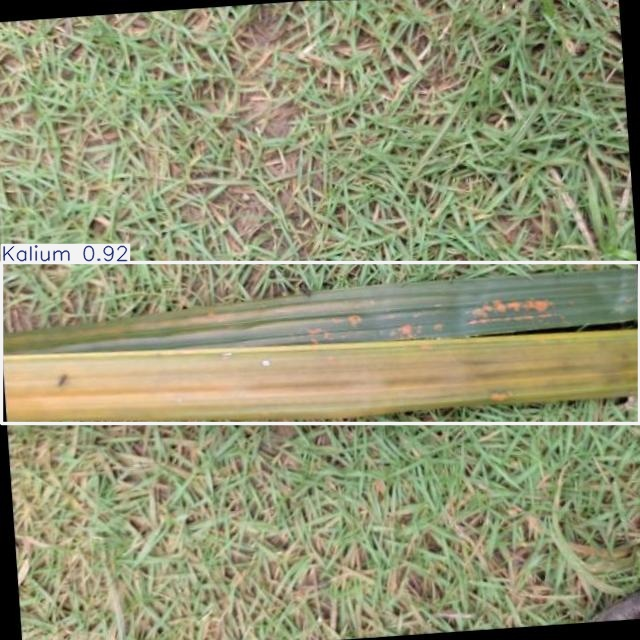Kalium: (1, 263, 640, 424)
